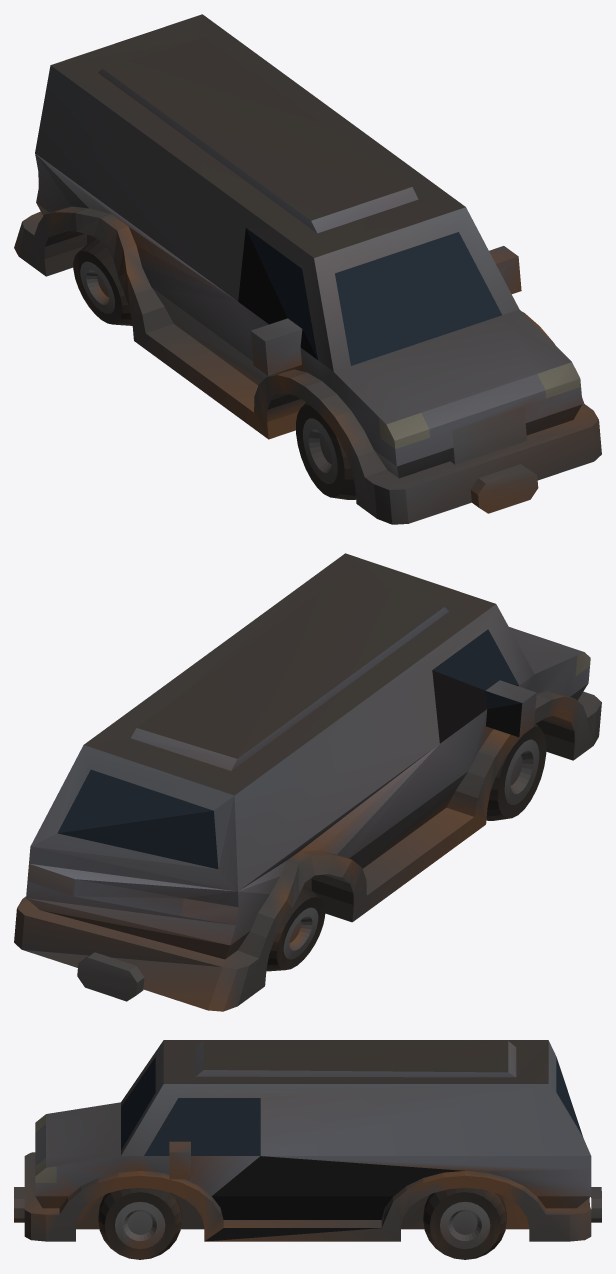
The model's file is van_wreck.glb.
3 renders of one model, top to bottom at view 1: azimuth 30°, elevation 25°; view 2: azimuth 150°, elevation 25°; view 3: azimuth 270°, elevation 25°, orthographic. The views are drawn at different scales.
Parts seen in each view (by area): view 1: van_wreck; view 2: van_wreck; view 3: van_wreck.
Boxes of the visible parts, x1,y1,x2,y2 form: van_wreck: (14, 14, 601, 524); van_wreck: (14, 553, 601, 1011); van_wreck: (14, 1040, 601, 1259).
Size of the model in its own units: 1.74 by 1.62 by 4.73.
